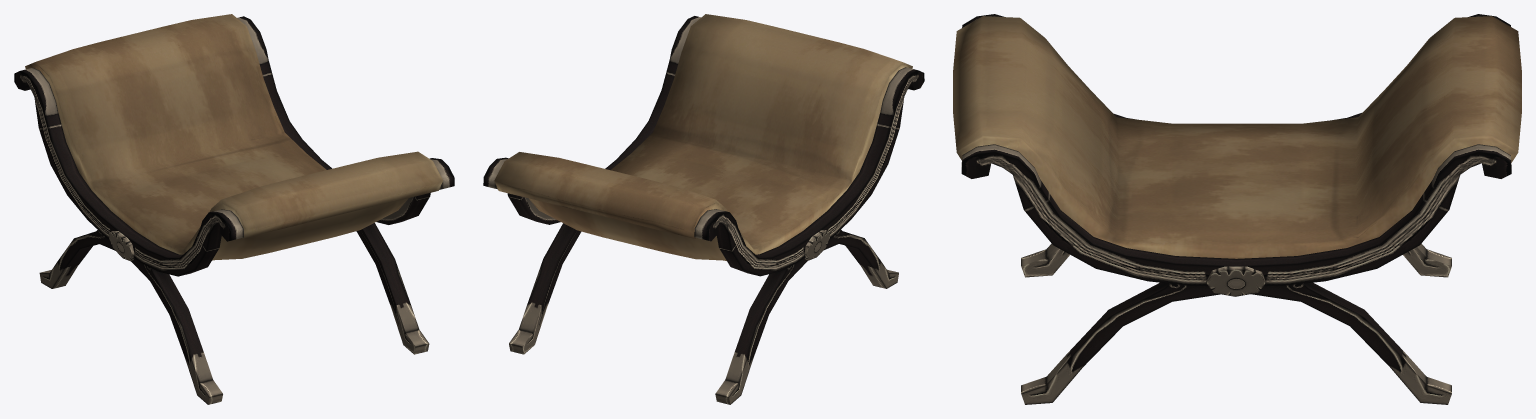
File: Sofa04.FBX
The picture shows the model from 3 angles, left to right: view 1: azimuth 30°, elevation 25°; view 2: azimuth 150°, elevation 25°; view 3: azimuth 270°, elevation 25°; orthographic projection. The views are drawn at different scales.
Parts seen in each view (by area): view 1: Sofa04; view 2: Sofa04; view 3: Sofa04.
Part boxes in pixels (left/top/right/bottom): Sofa04: left=14, top=14, right=454, bottom=404; Sofa04: left=483, top=14, right=924, bottom=404; Sofa04: left=953, top=14, right=1521, bottom=404.
Size of the model in its own units: 78.78 by 67.66 by 132.
